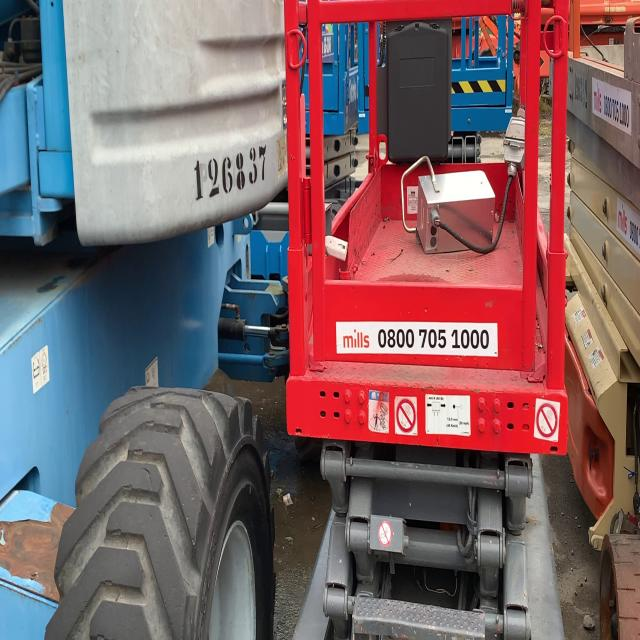Adesivo Longo: (335, 319, 499, 357)
